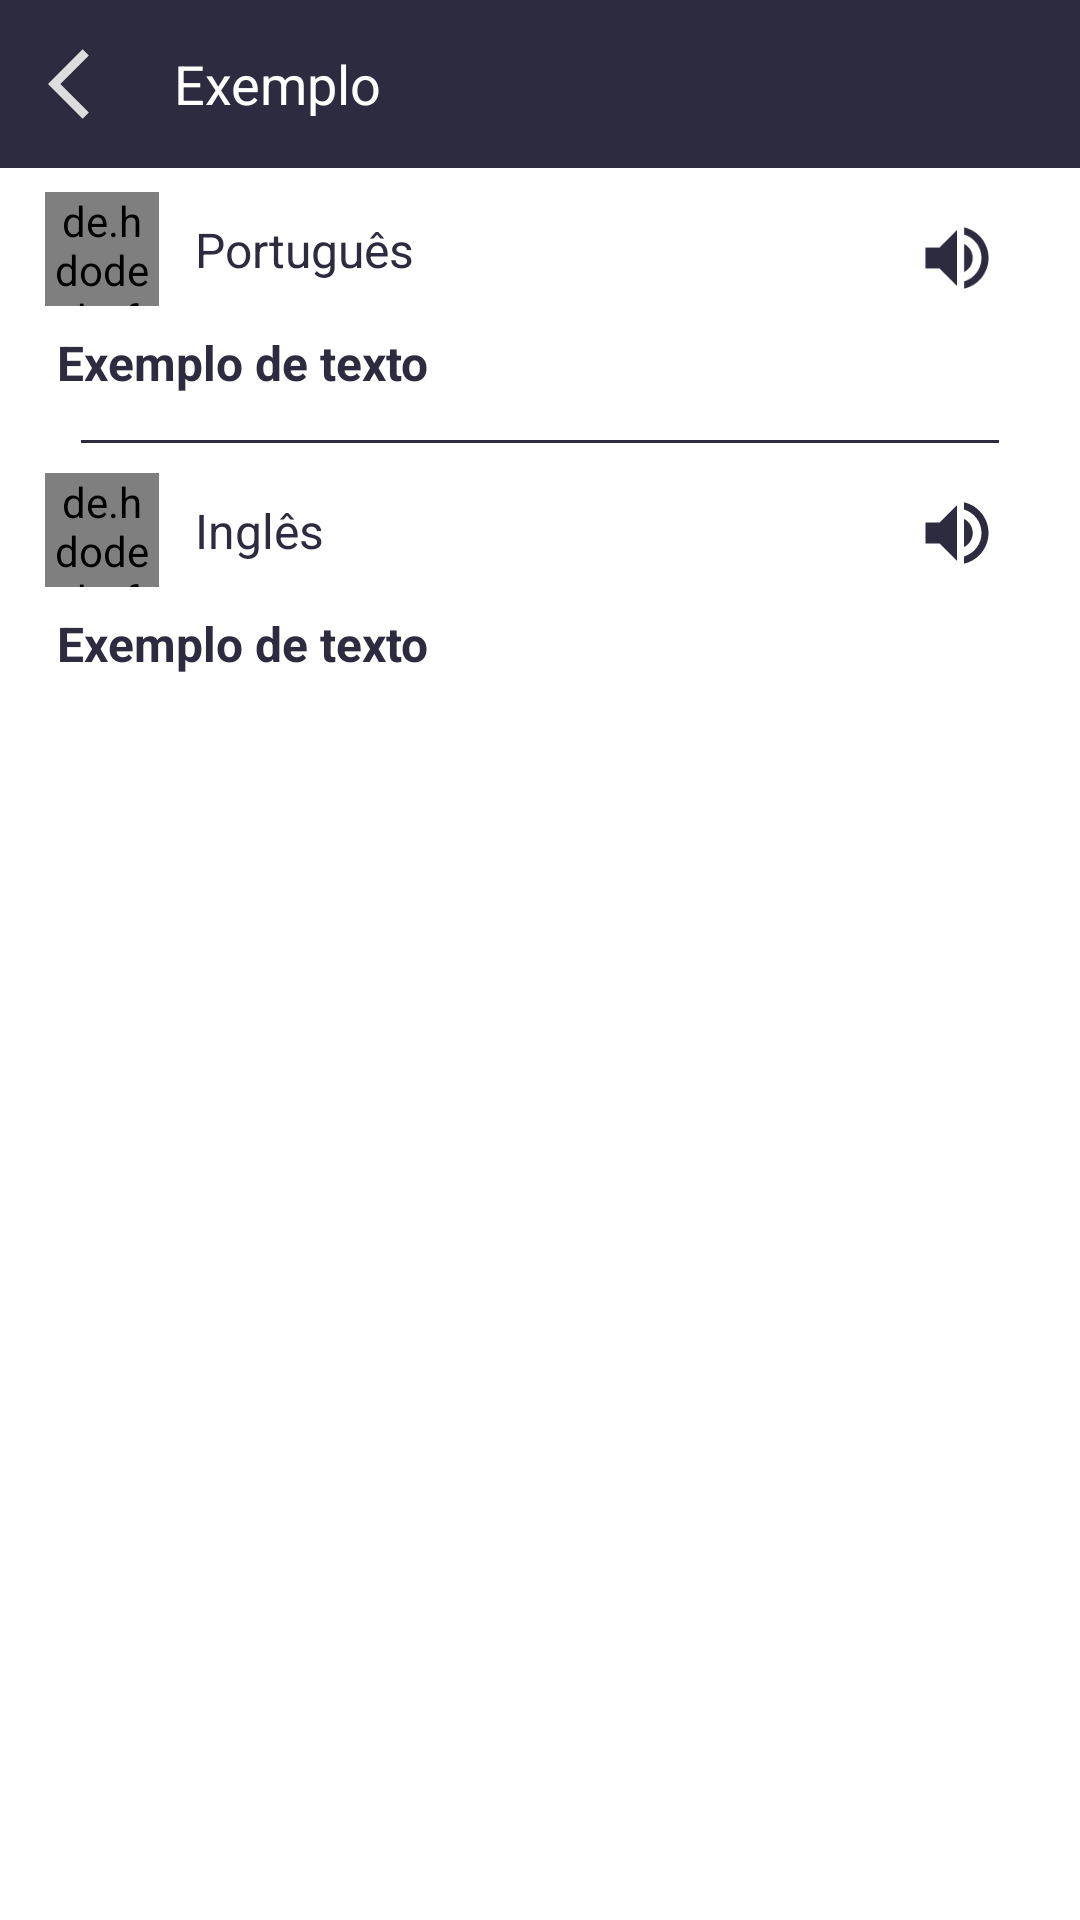

Where icons sit on this 1080×1920 app screen, as (x1, y1, x2, y2):
back: (48, 49, 89, 119)
sound: (925, 227, 989, 289), (925, 502, 989, 564)
